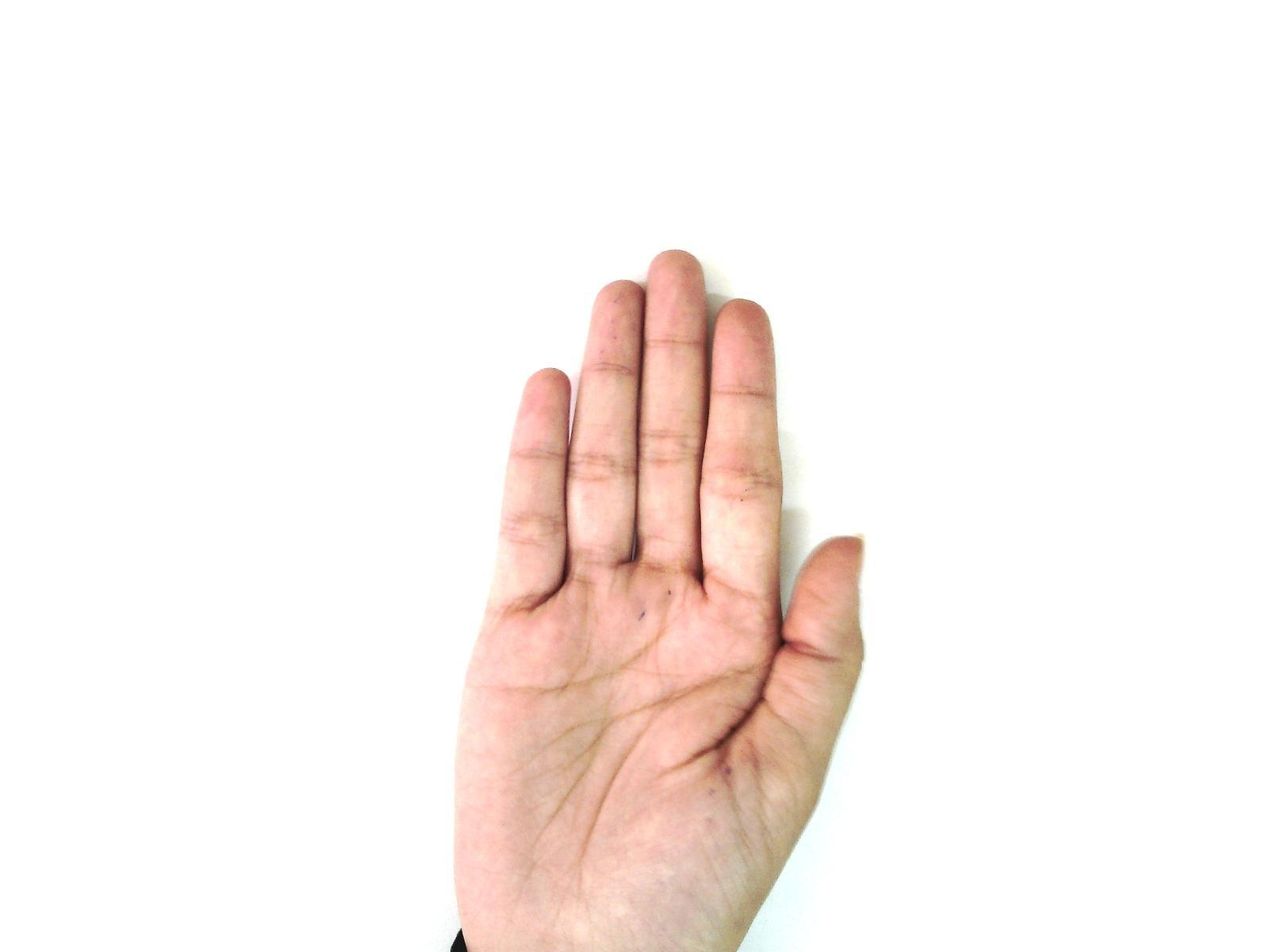open_palm: (448, 248, 869, 951)
